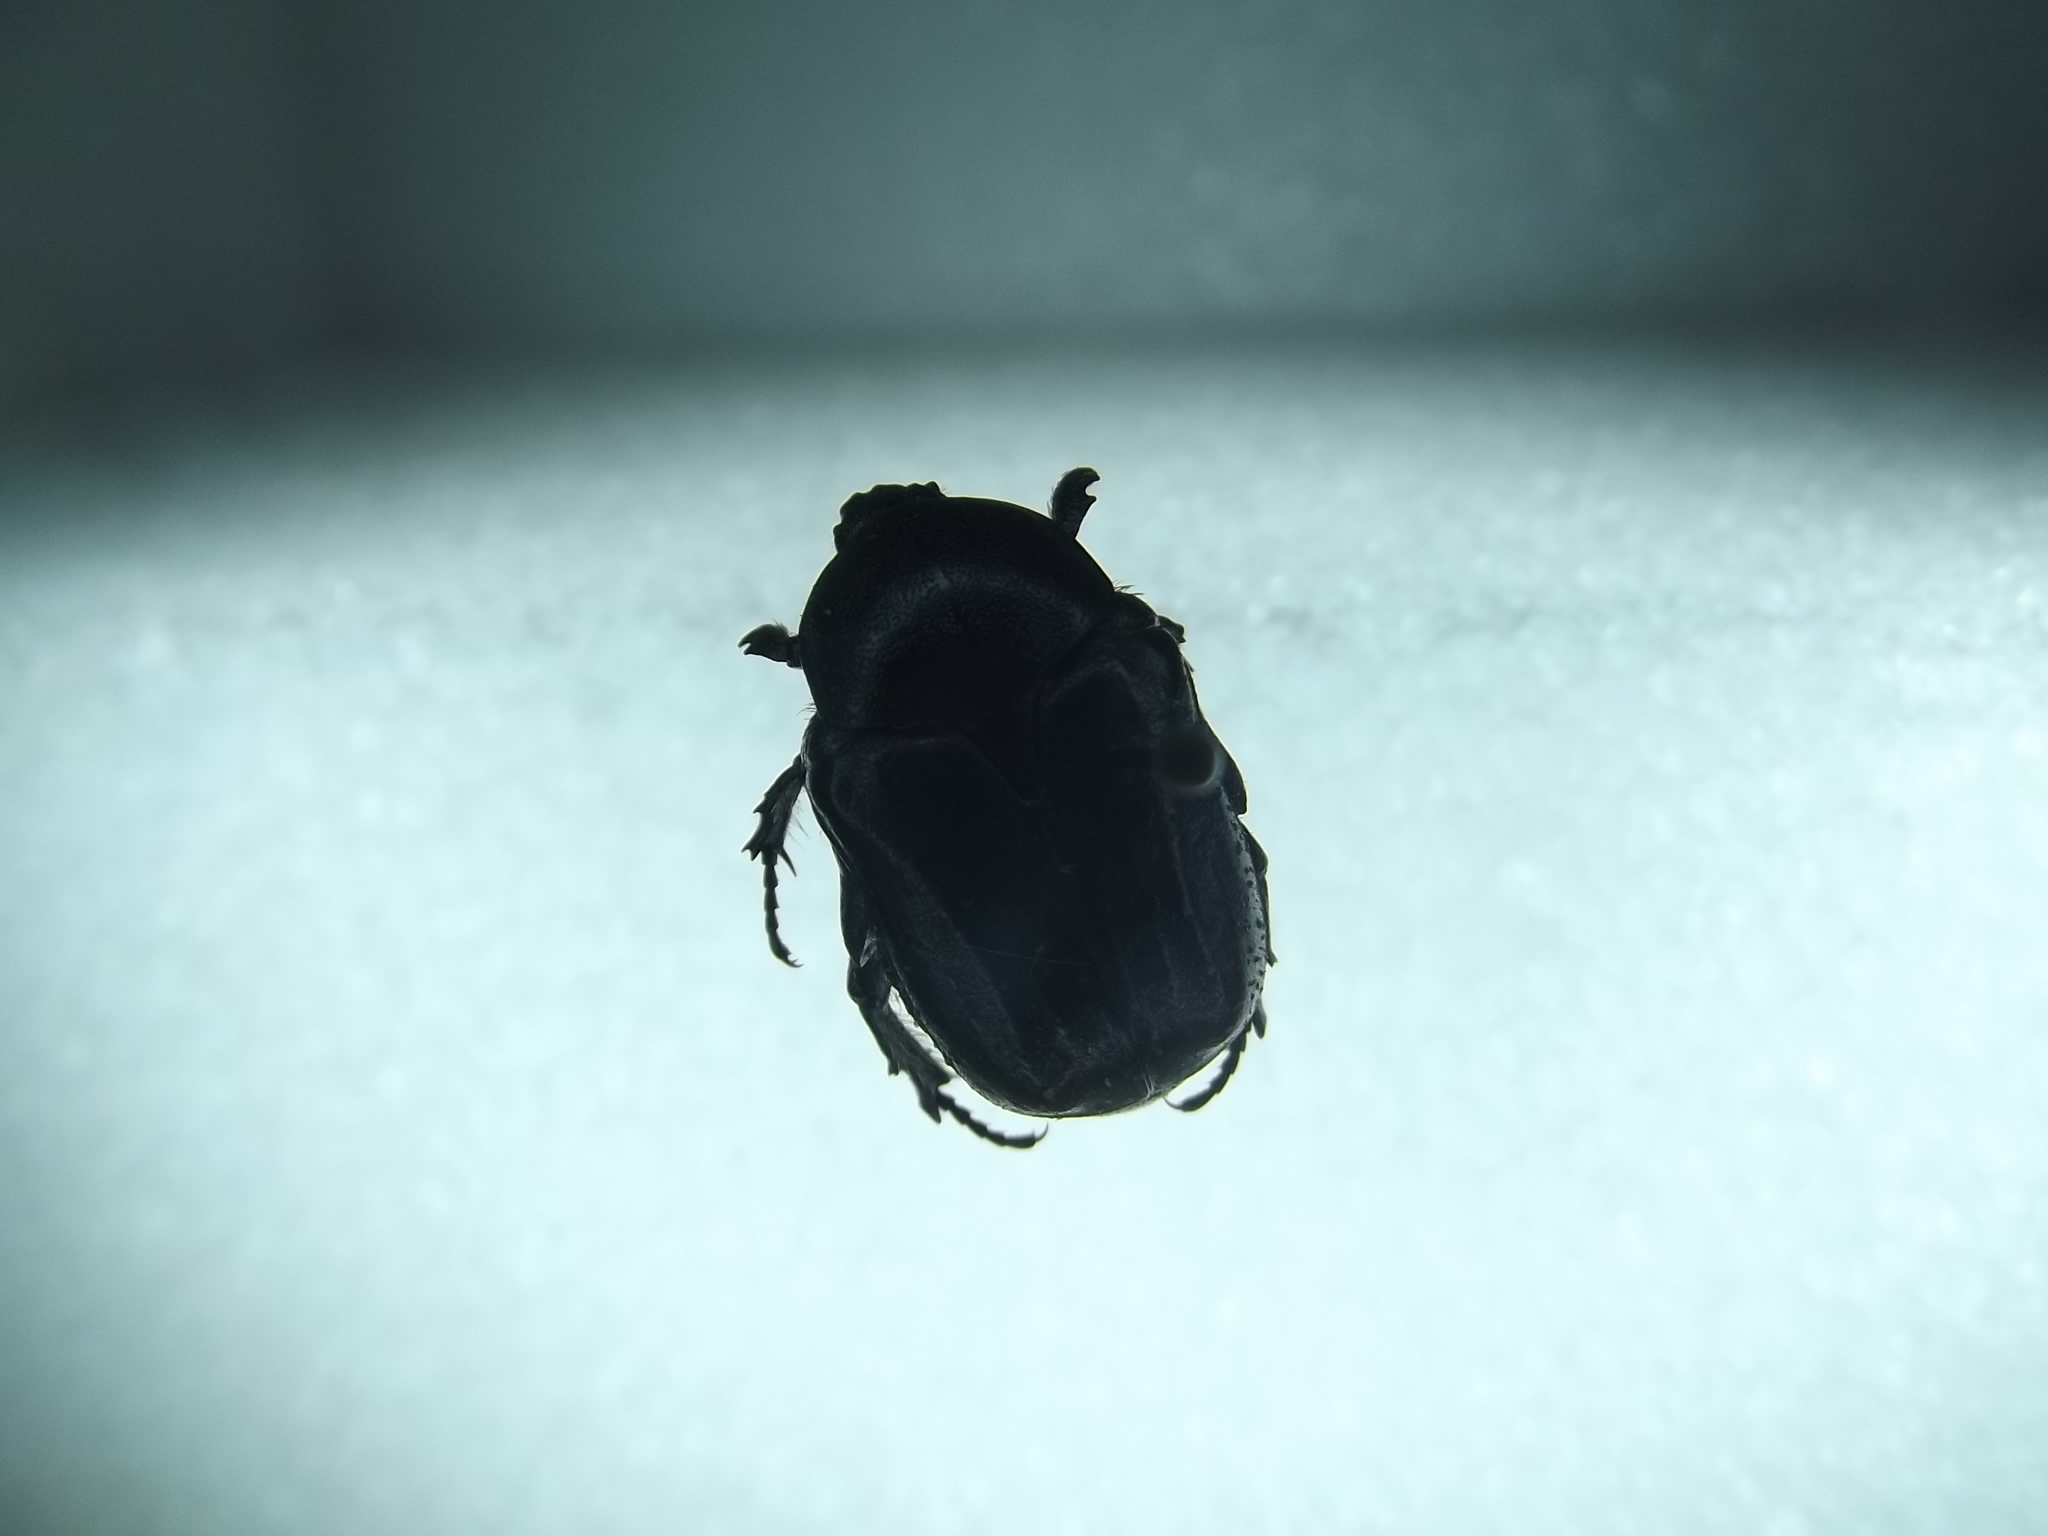Protaetia_vidua: (711, 445, 1316, 1176)
